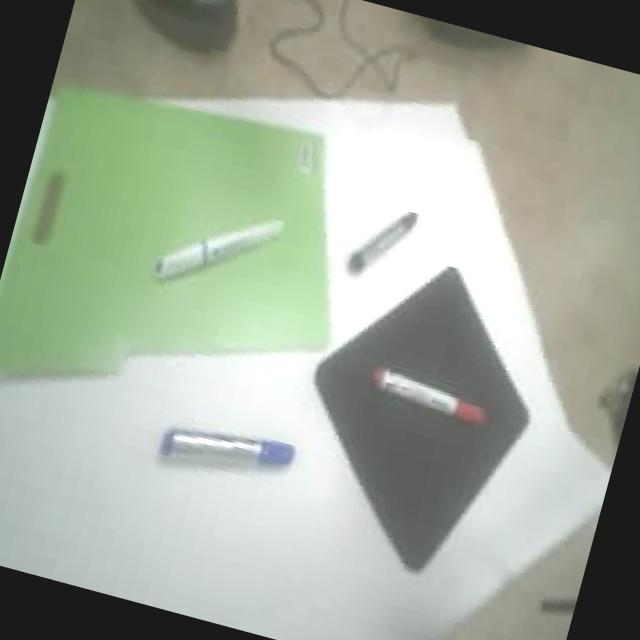board-marker: (153, 219, 282, 278), (371, 366, 484, 423), (347, 211, 417, 272)
